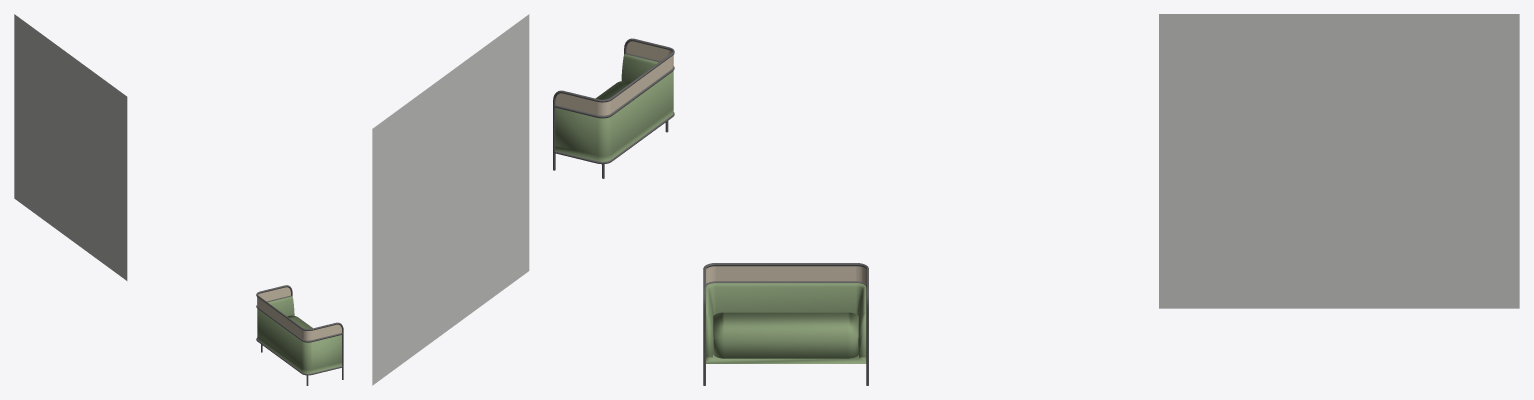
File: green sofa.glb
3 renders of one model, left to right at view 1: azimuth 30°, elevation 25°; view 2: azimuth 150°, elevation 25°; view 3: azimuth 270°, elevation 25°, orthographic. The views are drawn at different scales.
Visible parts, largest first — view 1: Model, Group7, Group5, Mesh7_Color_M08_0; view 2: Model, Group7, Group5, Mesh7_Color_M08_0, Mesh2_Color_M08_0, Mesh1_Color_M08_0, Group4; view 3: Model, Group4, Group7, Group5, Mesh7_Color_M08_0.
Part boxes in pixels (bbox=[...]): Model: bbox=[14, 14, 127, 280]; Group7: bbox=[257, 296, 341, 373]; Group5: bbox=[257, 287, 341, 340]; Mesh7_Color_M08_0: bbox=[256, 285, 343, 379]; Model: bbox=[372, 14, 529, 385]; Group7: bbox=[555, 54, 673, 161]; Group5: bbox=[555, 41, 673, 115]; Mesh7_Color_M08_0: bbox=[553, 38, 674, 170]; Mesh2_Color_M08_0: bbox=[554, 53, 674, 118]; Mesh1_Color_M08_0: bbox=[554, 112, 674, 164]; Group4: bbox=[595, 81, 631, 99]; Model: bbox=[1159, 14, 1519, 308]; Group4: bbox=[713, 312, 858, 358]; Group7: bbox=[706, 283, 866, 363]; Group5: bbox=[706, 266, 866, 283]; Mesh7_Color_M08_0: bbox=[703, 263, 868, 385].
Bounding box in the file's own units: 0.4775 × 1.21 × 2.85.
